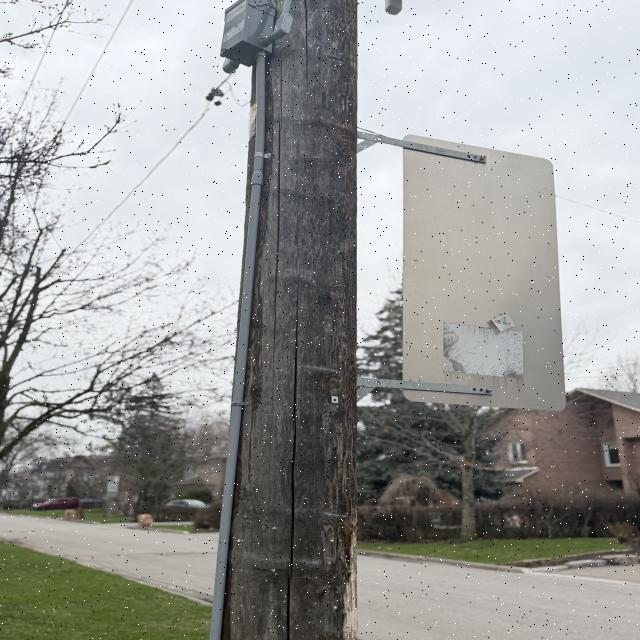Electrical Pole: (203, 0, 404, 640)
